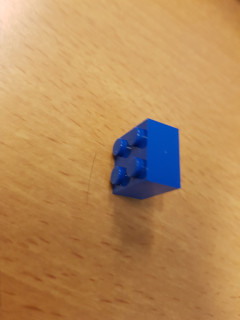2x2 blue: (108, 117, 183, 202)
